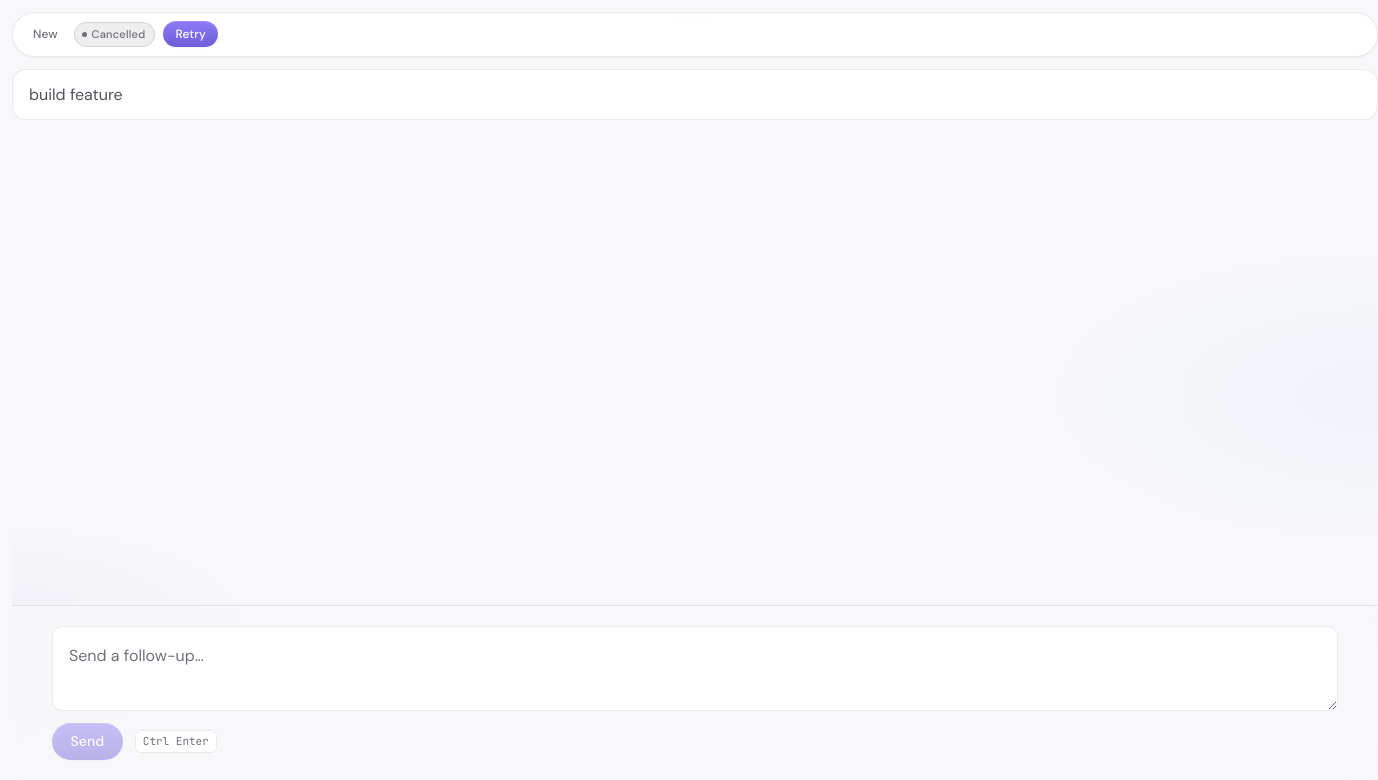
Test: RunDetail › shows retry failure in load error and re-enables retry
This screenshot has width=1378, height=780.
What coordinates should you click on to do the following:
click the button "Retry"
I would click on:
 (191, 34)
Its box is [163, 21, 218, 48].
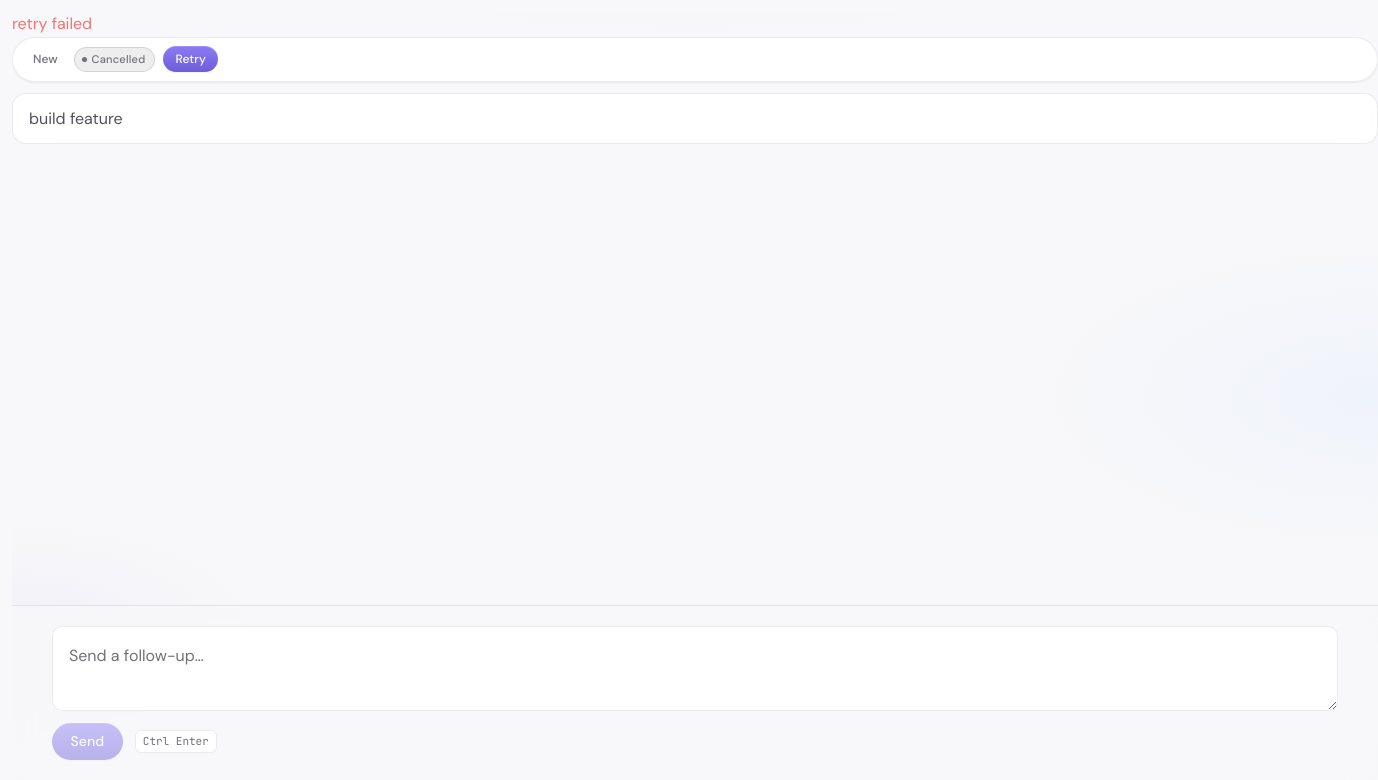
Expected: the button "Retry" is enabled, [163, 46, 218, 72]
Result: the text "retry failed" is shown at [12, 13, 92, 34]
